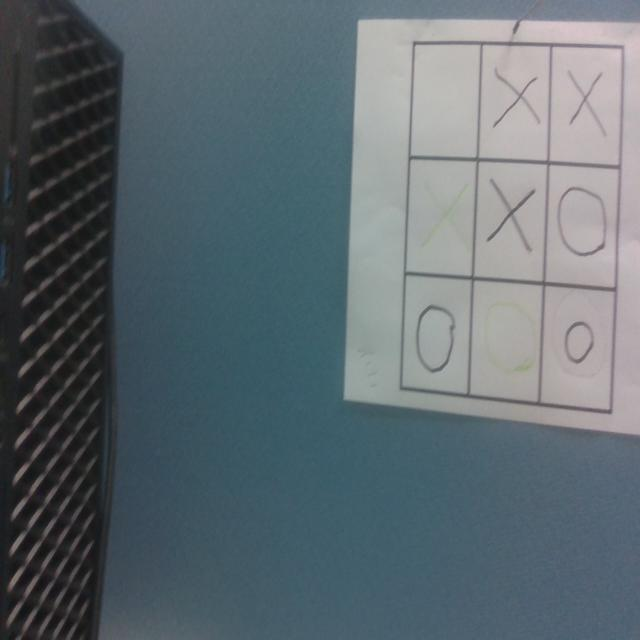null: (410, 41, 479, 160)
o: (558, 184, 610, 256), (484, 300, 536, 370), (416, 303, 455, 373), (565, 319, 594, 363)
table: (398, 38, 620, 419)
x: (421, 179, 469, 252), (490, 179, 534, 252), (494, 70, 541, 130), (569, 70, 607, 137)
